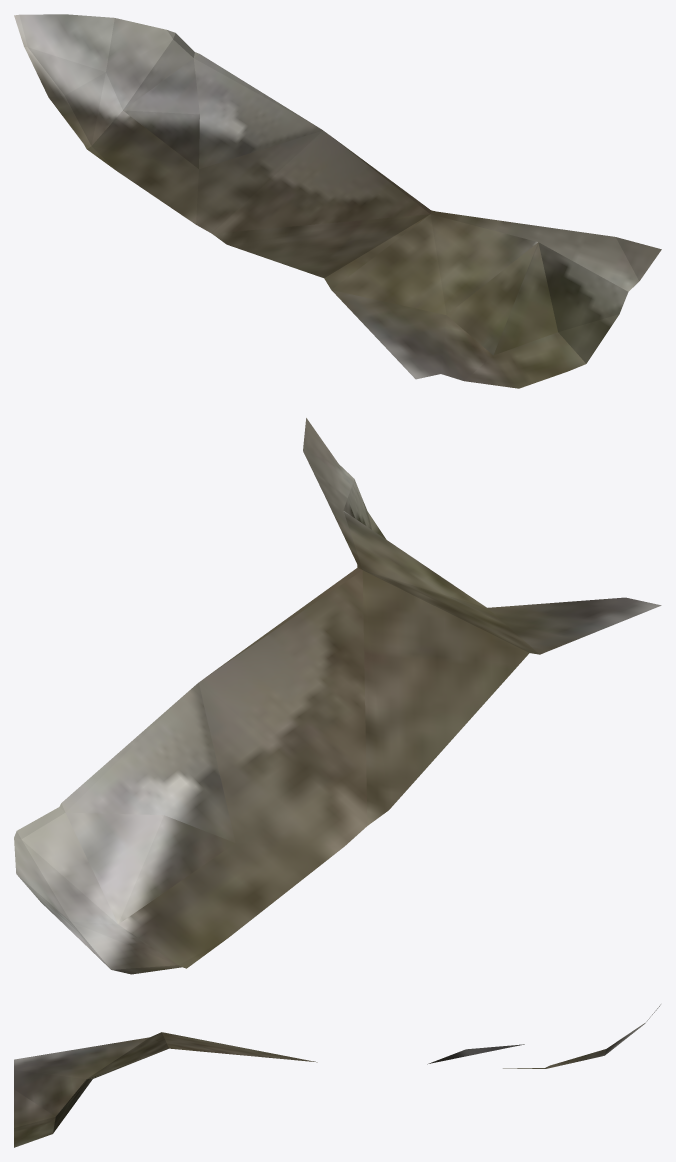
3 renders of one model, top to bottom at view 1: azimuth 30°, elevation 25°; view 2: azimuth 150°, elevation 25°; view 3: azimuth 270°, elevation 25°, orthographic. The views are drawn at different scales.
Bounding box in the file's own units: 0.591 × 0.2396 × 1.67.
Materials: 1 (1 with a texture image).
